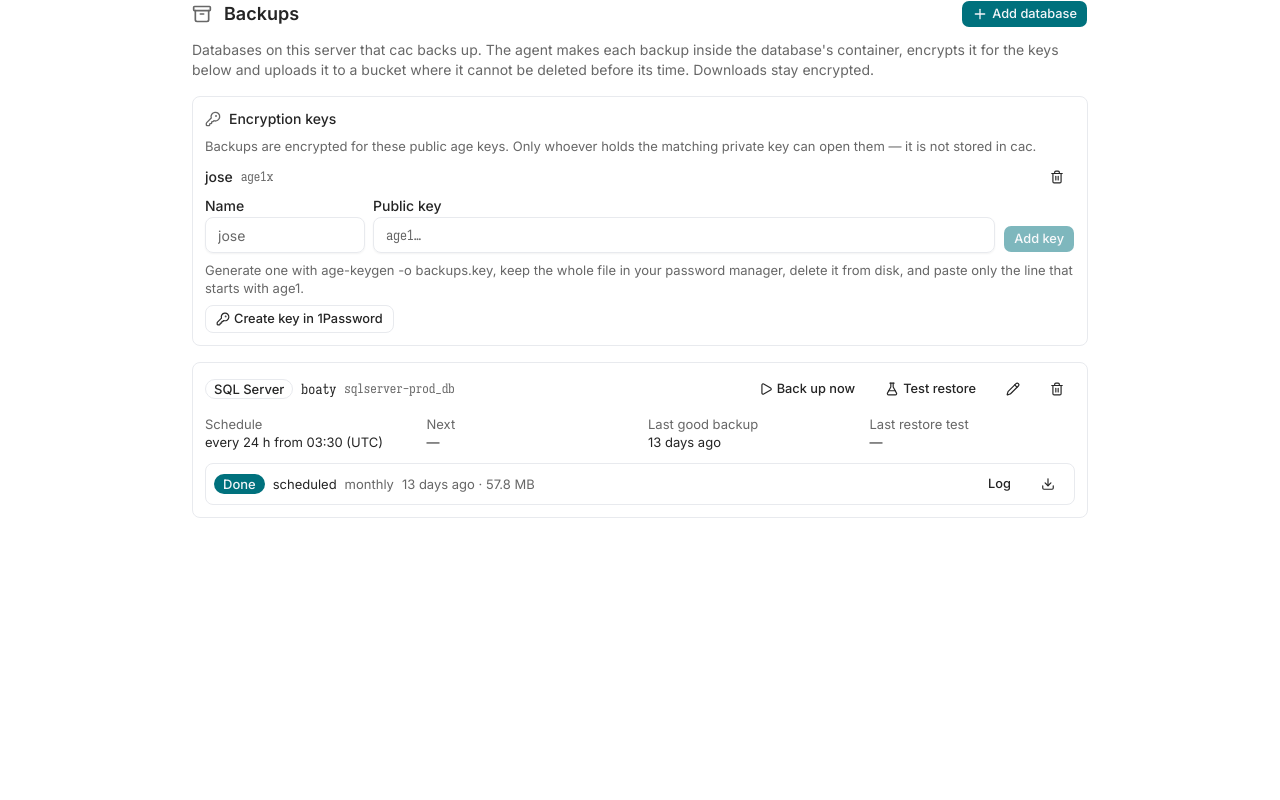
Test: la ayuda del formulario › el «?» de Base explica el campo y da un ejemplo
The width and height of the screenshot is (1280, 800).
Click the button "Add database" at (1025, 14), box [961,0,1088,28]
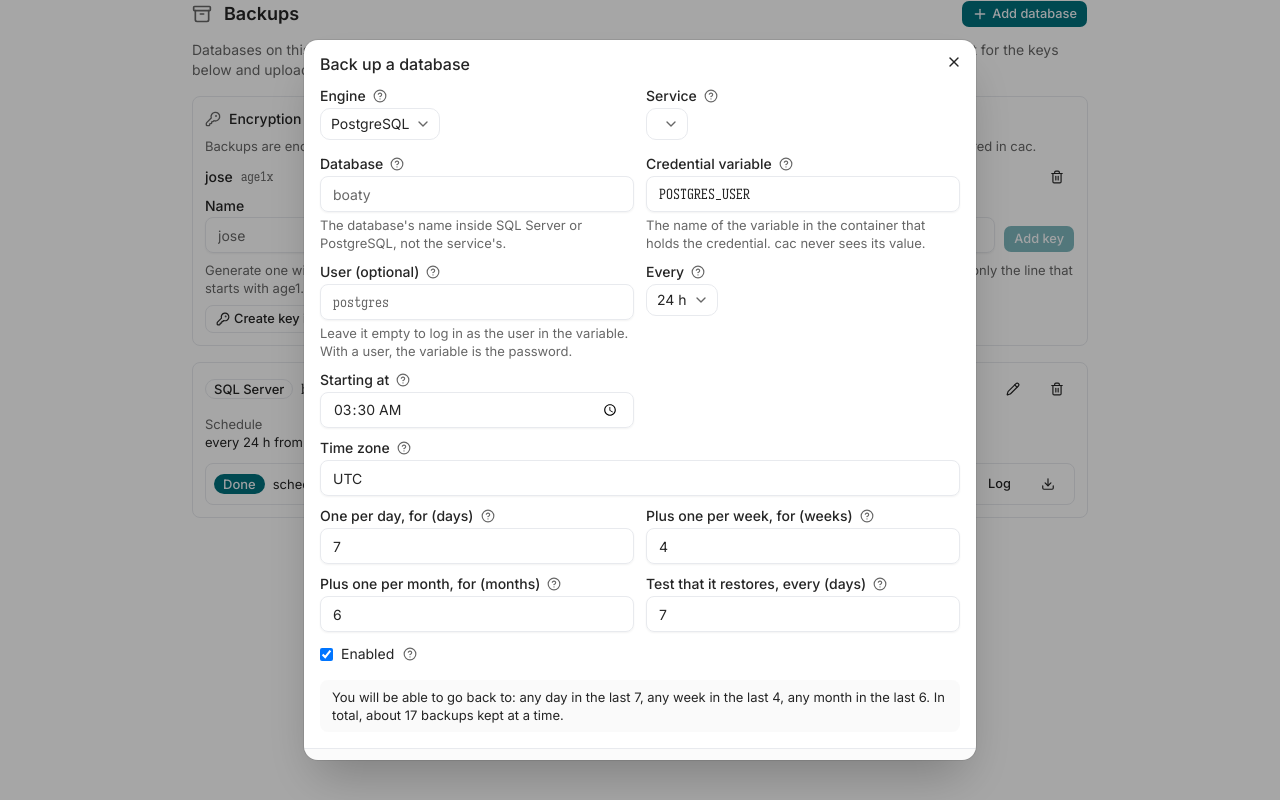
Click the button named "Help: Database" at (397, 164), box [389,156,405,172]
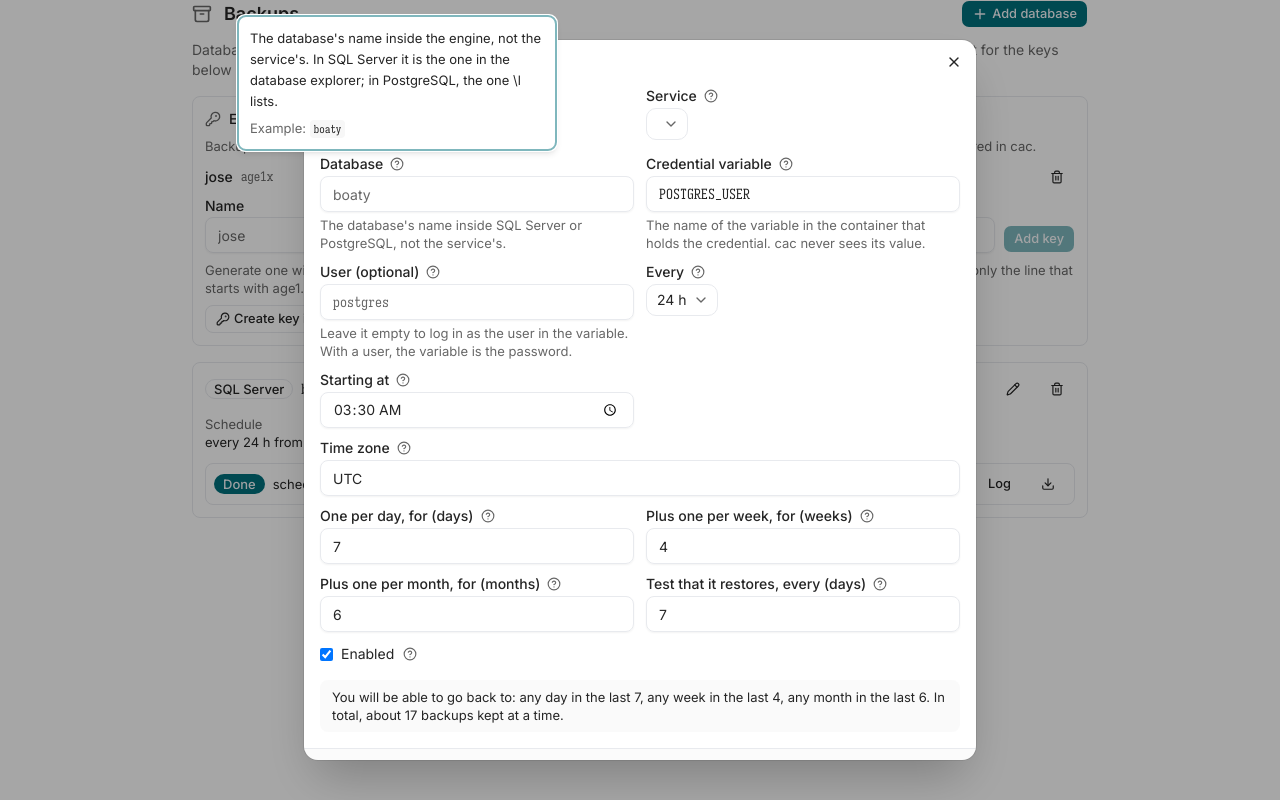
Expected: the text "Example: boaty" is shown, [250,120,345,138]
